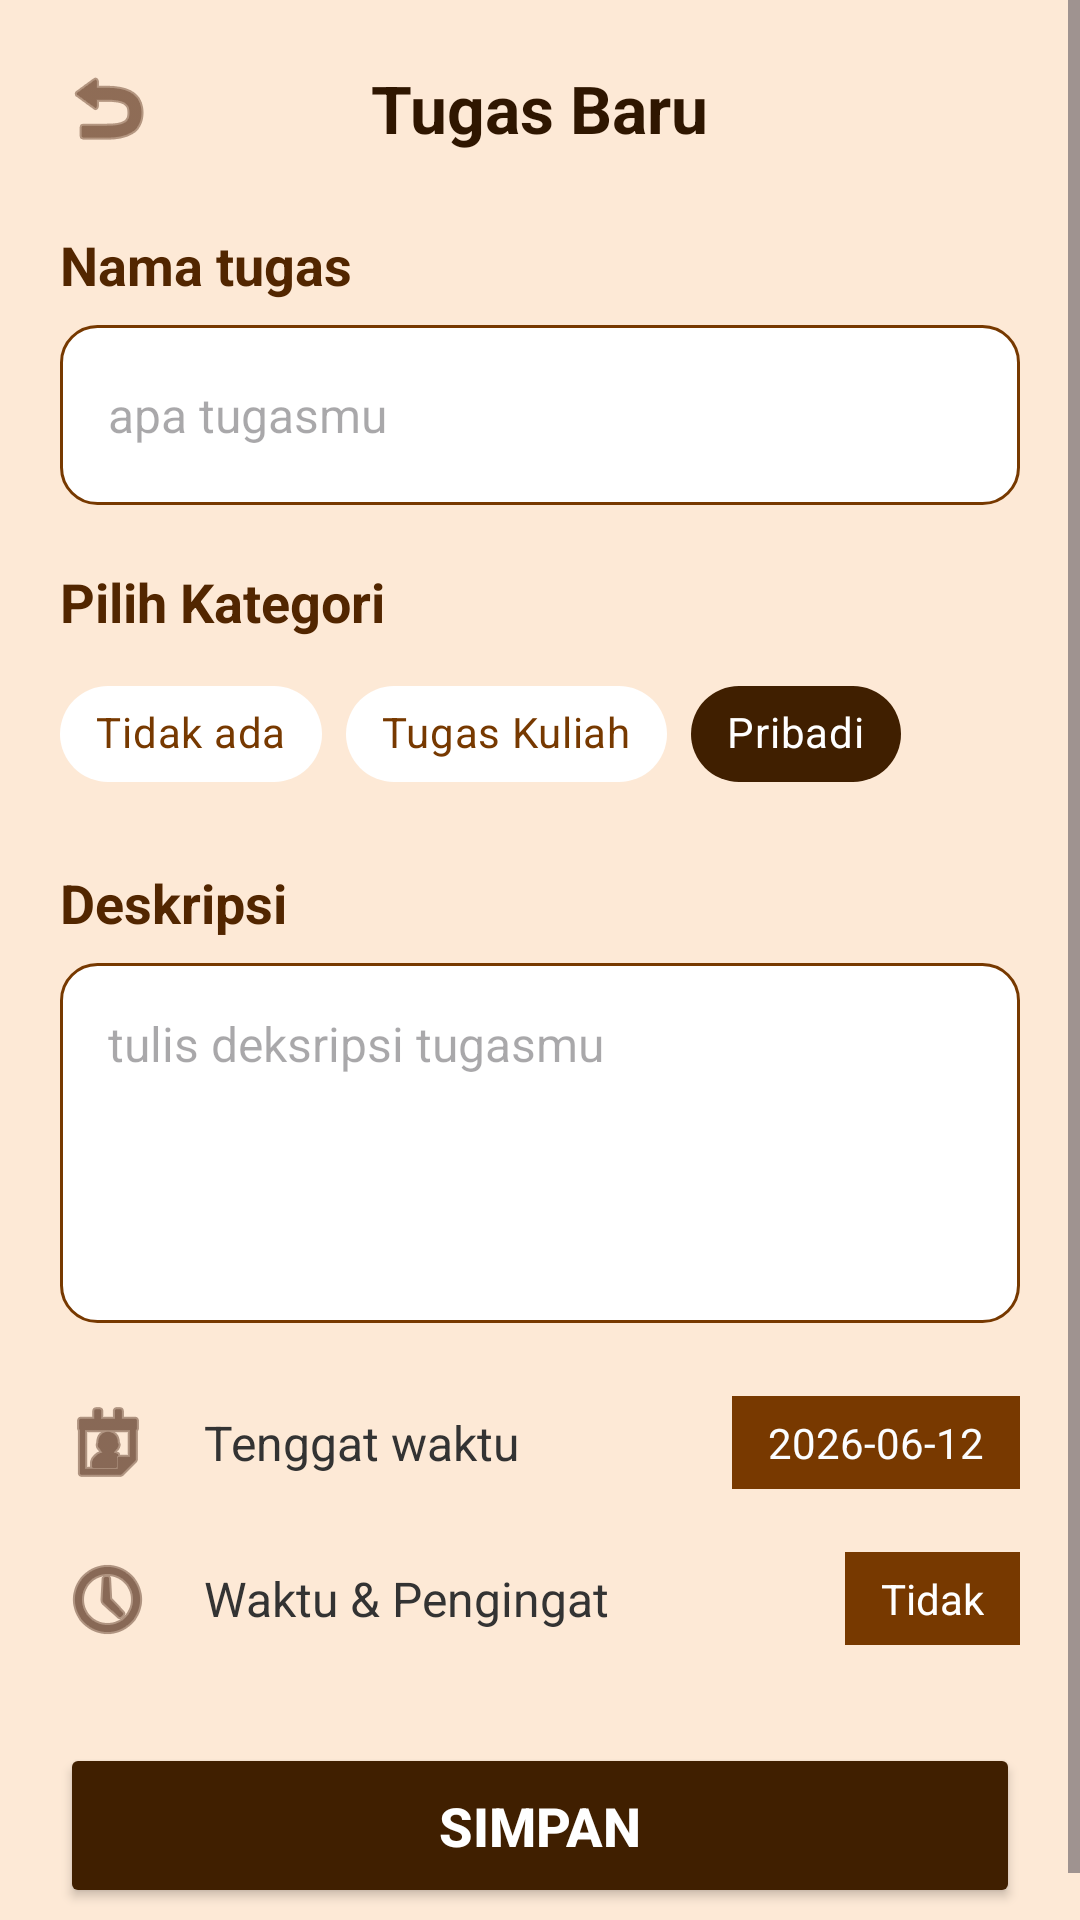

Icon bounding boxes for this 1080x1920 phone screenshot, format (x1, y1, x2, y2):
calendar: (77, 1407, 139, 1477)
recent history: (73, 1565, 142, 1634)
revert: (75, 77, 144, 140)
